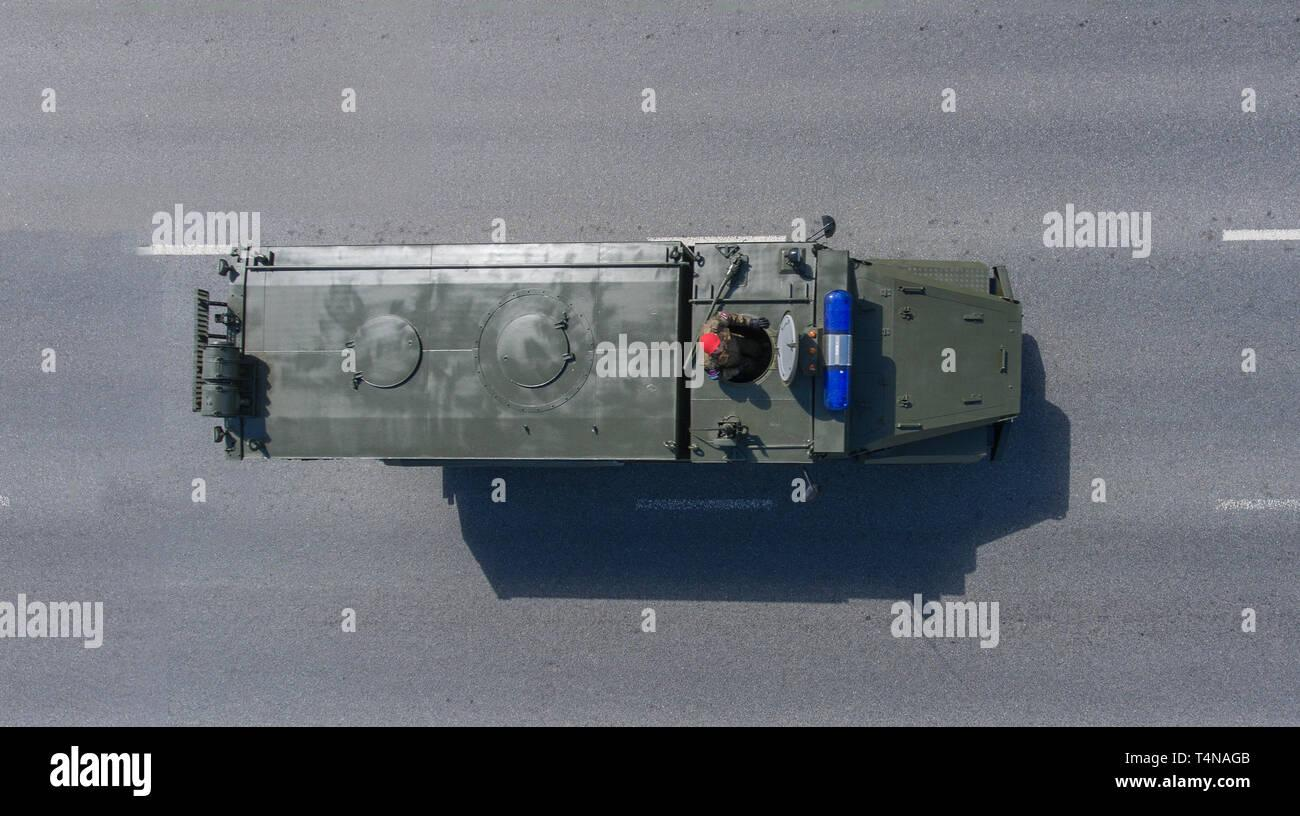truck: (174, 221, 1068, 490)
